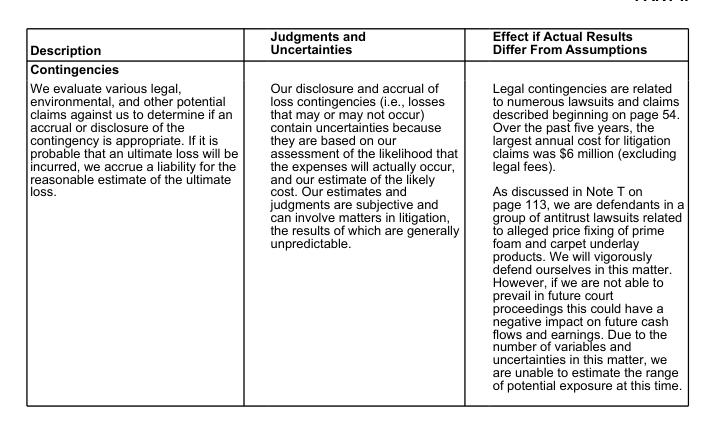table: (29, 28, 683, 391)
table column: (29, 28, 253, 391), (253, 28, 475, 391), (475, 28, 683, 391)
table column header: (29, 28, 683, 58)
table projected row header: (29, 58, 683, 77)
table row: (29, 77, 683, 391), (29, 28, 683, 58), (29, 58, 683, 77)
